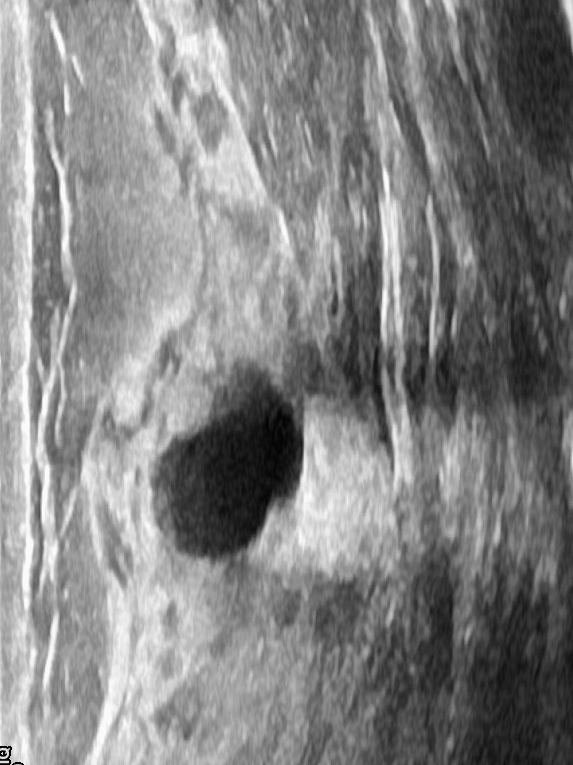Benign: (143, 384, 306, 560)
